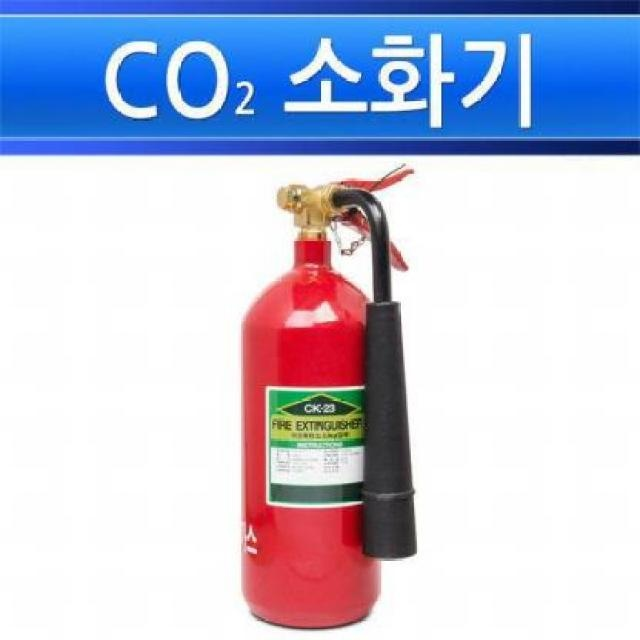fire extinguisher: (239, 169, 419, 629)
